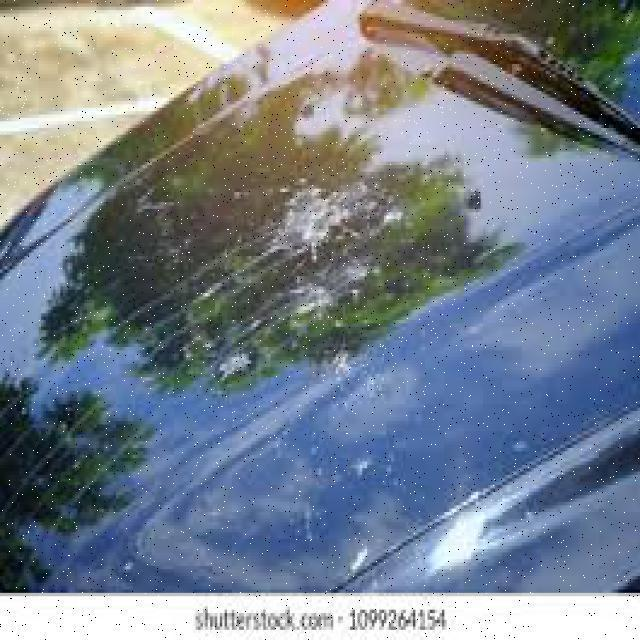bonnet-dent: (0, 68, 609, 606)
